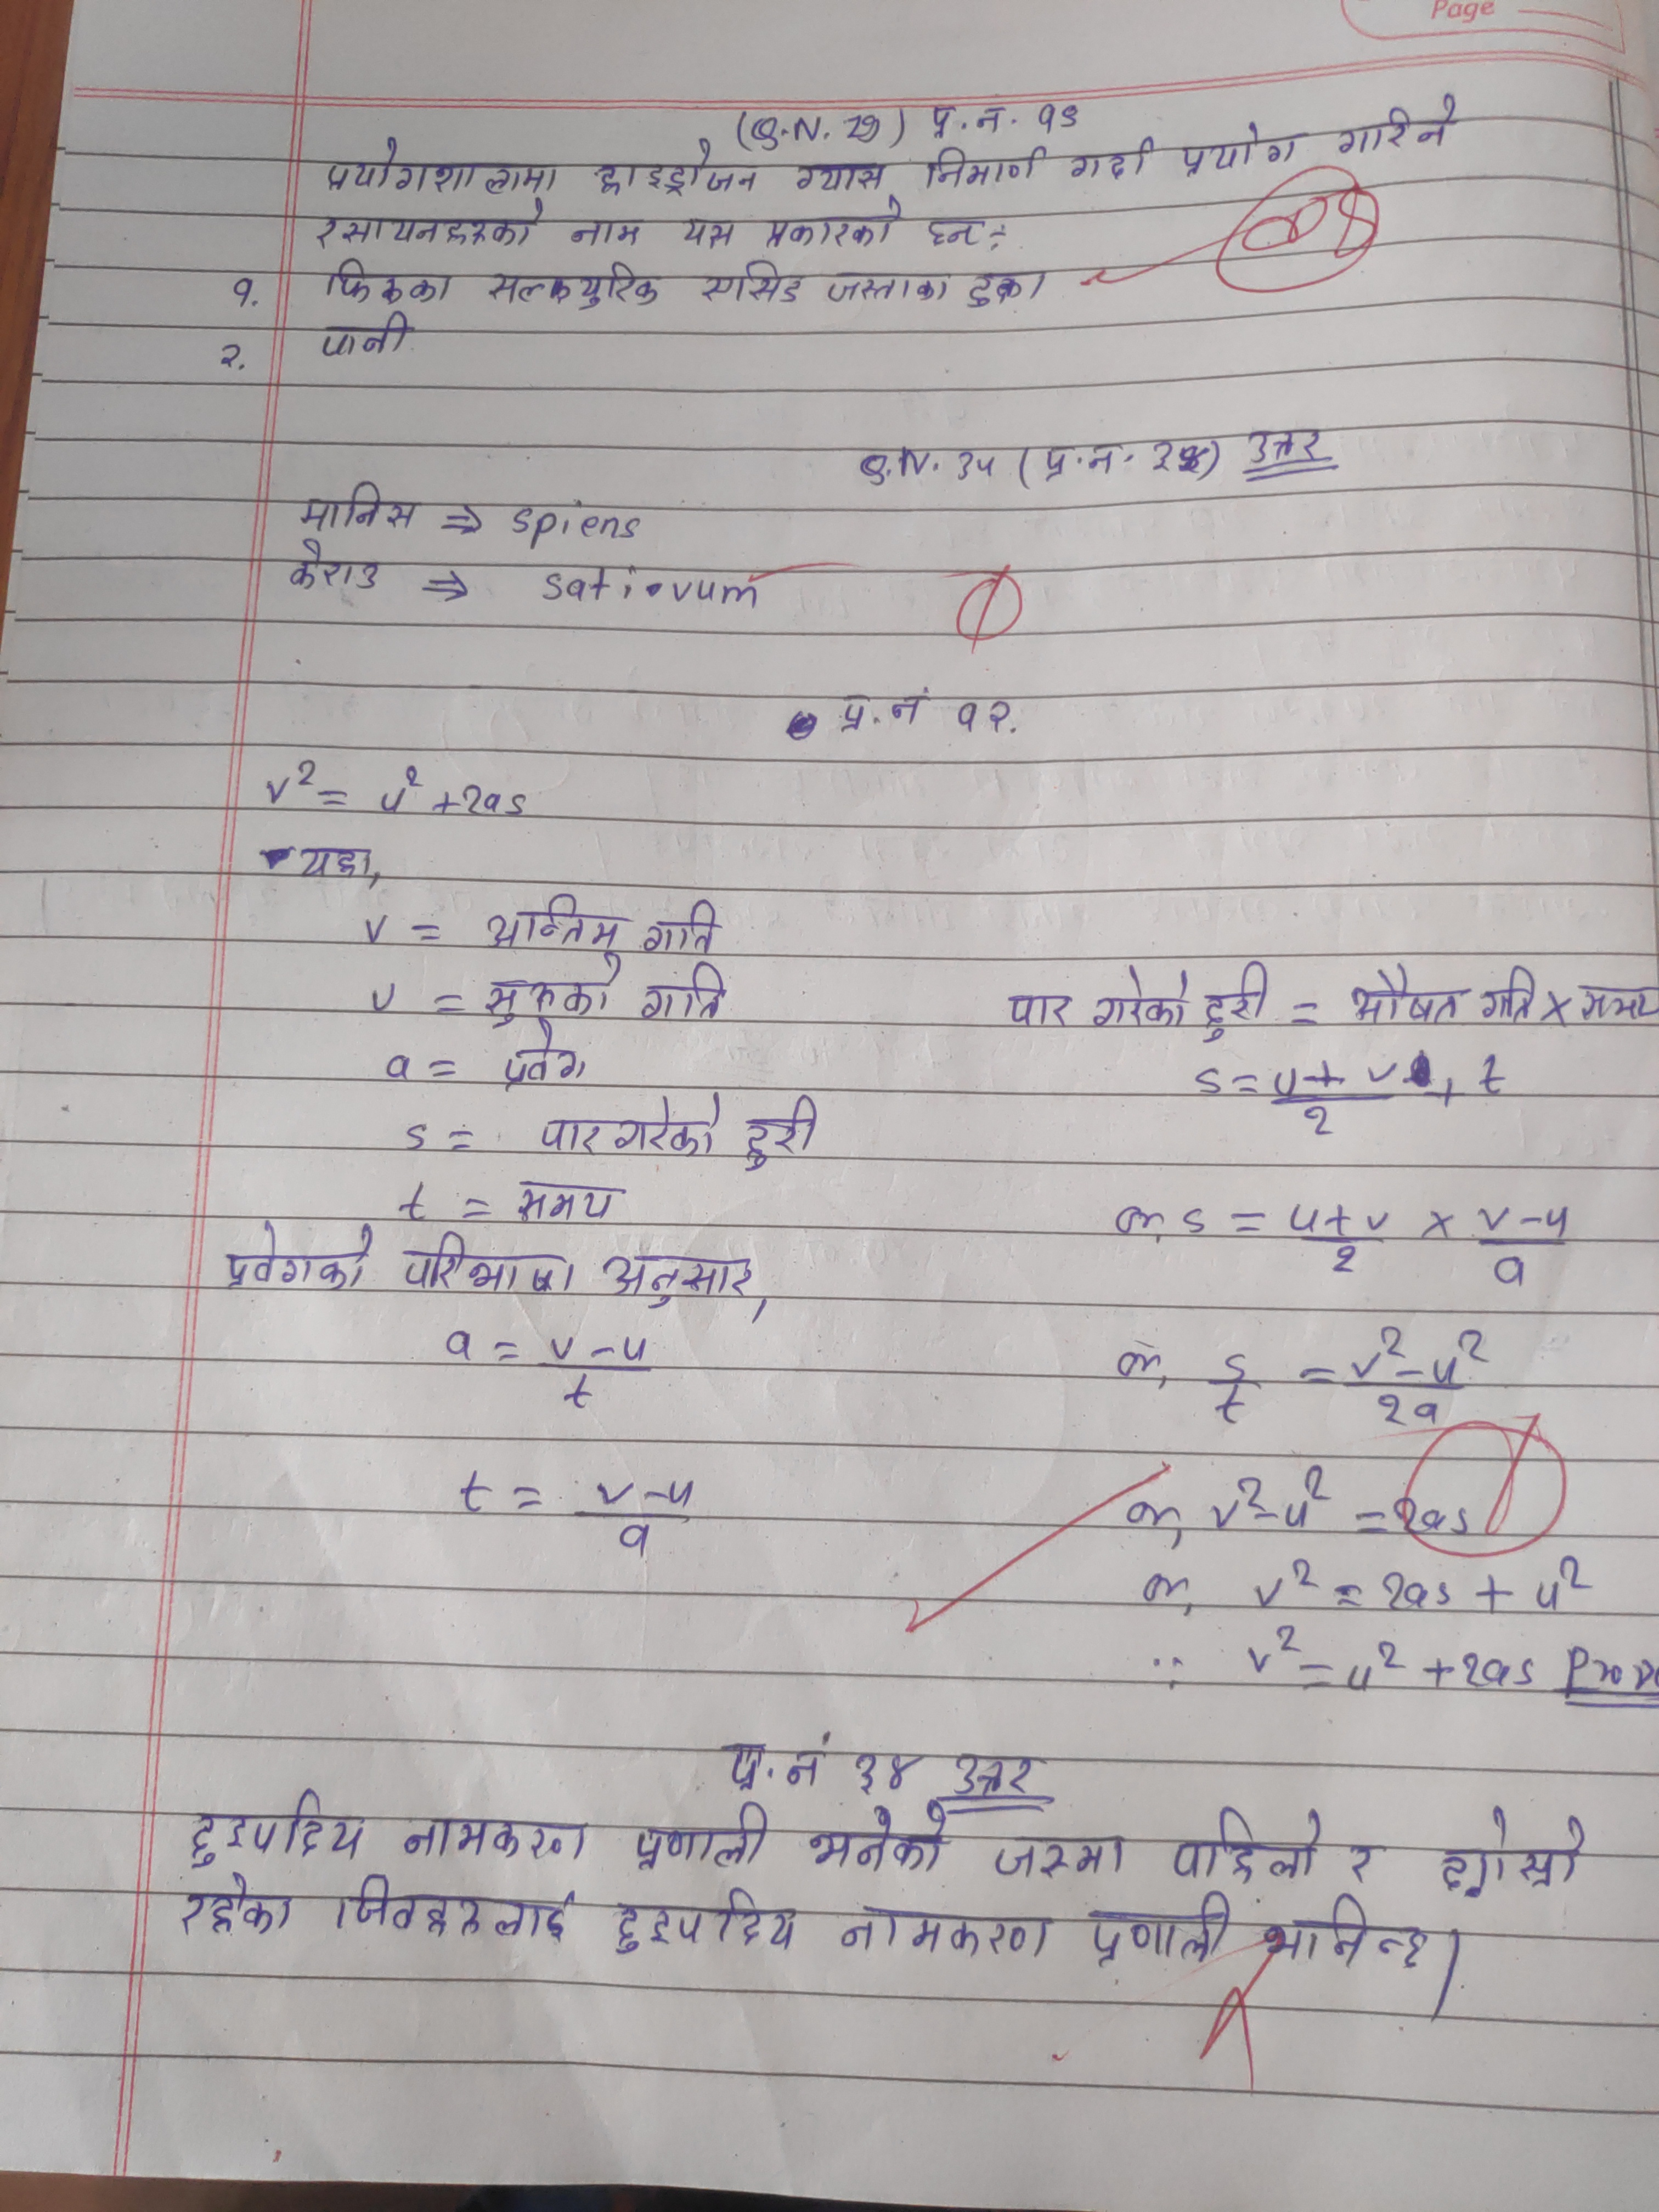text: (331, 1869, 577, 1947), (321, 129, 559, 200), (181, 1784, 373, 1872), (608, 1888, 796, 1965), (1438, 1804, 1593, 1897), (833, 1902, 1054, 1966), (1260, 1893, 1429, 1972), (394, 1224, 577, 1296), (1175, 1803, 1330, 1886), (627, 1796, 775, 1879), (540, 1099, 723, 1163), (310, 202, 538, 251), (1086, 1892, 1234, 1966), (211, 1221, 376, 1287), (596, 136, 760, 200), (401, 1811, 587, 1867), (488, 256, 666, 314), (805, 1808, 950, 1878), (476, 890, 631, 951), (599, 1249, 756, 1308), (479, 956, 624, 1019), (171, 1876, 301, 1944), (985, 1827, 1129, 1883), (1333, 92, 1464, 152), (1087, 963, 1192, 1036), (1351, 960, 1469, 1024), (734, 1094, 824, 1174), (317, 256, 458, 307), (758, 204, 906, 251), (1176, 122, 1305, 176), (298, 481, 420, 536), (924, 138, 1049, 190), (504, 1019, 587, 1097), (1197, 960, 1274, 1043), (284, 540, 396, 596), (509, 1174, 617, 1230), (819, 266, 955, 310), (699, 256, 803, 310), (640, 963, 732, 1024), (948, 1747, 1044, 1804), (319, 307, 420, 361), (835, 678, 929, 735), (634, 900, 718, 954), (1065, 139, 1161, 186), (1035, 444, 1138, 488), (964, 270, 1053, 317), (1474, 967, 1541, 1026), (1575, 977, 1656, 1026), (793, 155, 889, 195), (1000, 986, 1073, 1035), (922, 101, 1011, 141), (566, 209, 648, 251), (1241, 427, 1326, 467), (958, 686, 1019, 742), (920, 202, 981, 251), (680, 211, 741, 253), (1344, 1838, 1392, 1886), (1035, 98, 1086, 138)
